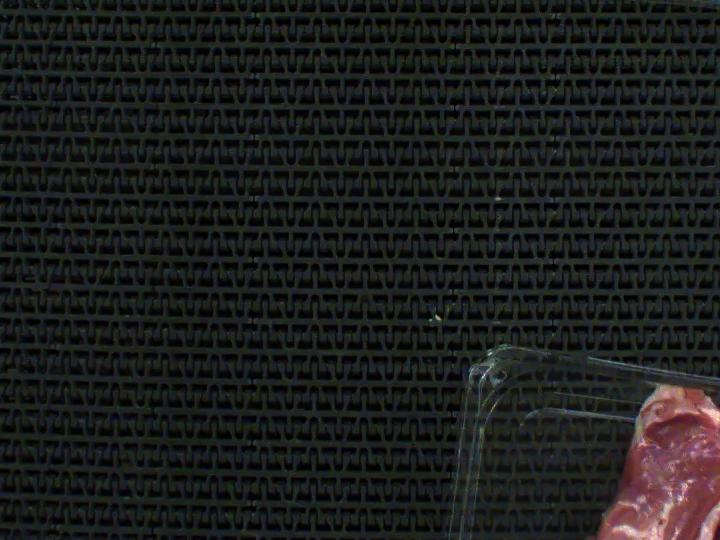packaging-error: (626, 356, 720, 445)
